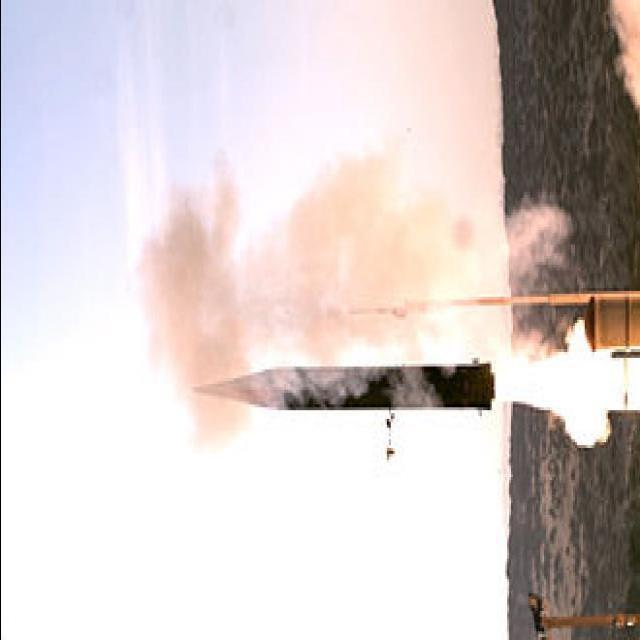missile: (189, 358, 497, 418)
